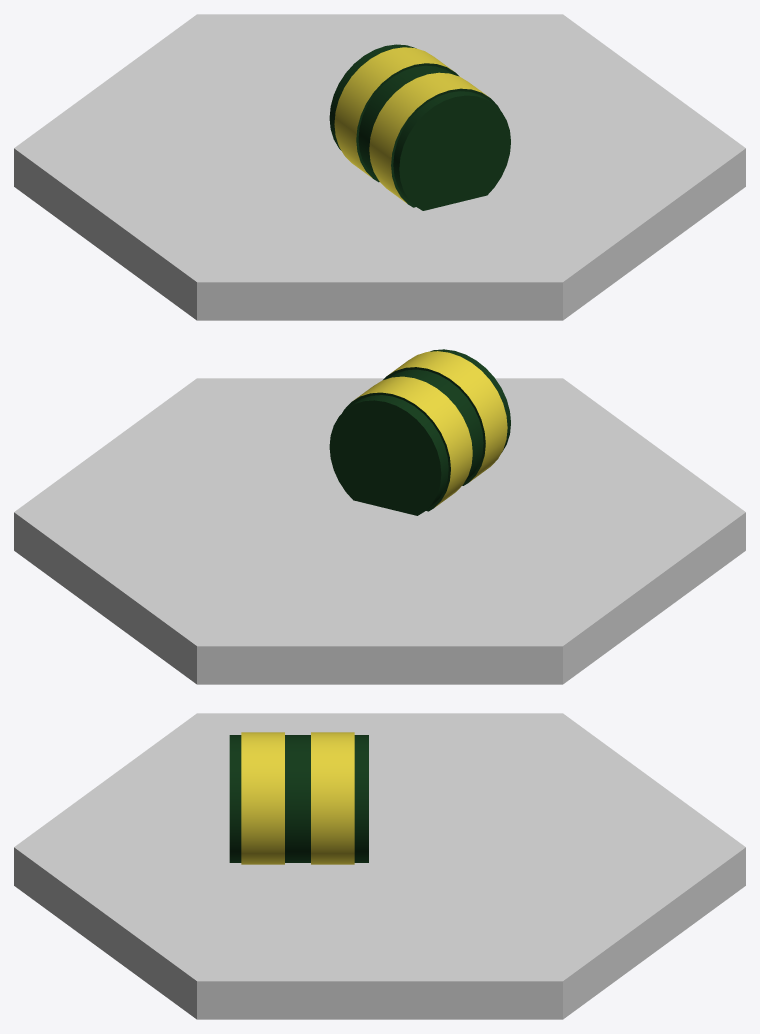
File: cracked_battery2.fbx
3 views of the same model, one above another, from view 1: azimuth 30°, elevation 25°; view 2: azimuth 150°, elevation 25°; view 3: azimuth 270°, elevation 25° (orthographic).
Parts seen in each view (by area): view 1: Torus.006; view 2: Torus.006; view 3: Torus.006.
Part boxes in pixels (x1,y1,x2,y2): Torus.006: (14, 14, 745, 320); Torus.006: (14, 349, 745, 684); Torus.006: (14, 713, 745, 1019).
Size of the model in its own units: 173 by 44.37 by 200.
